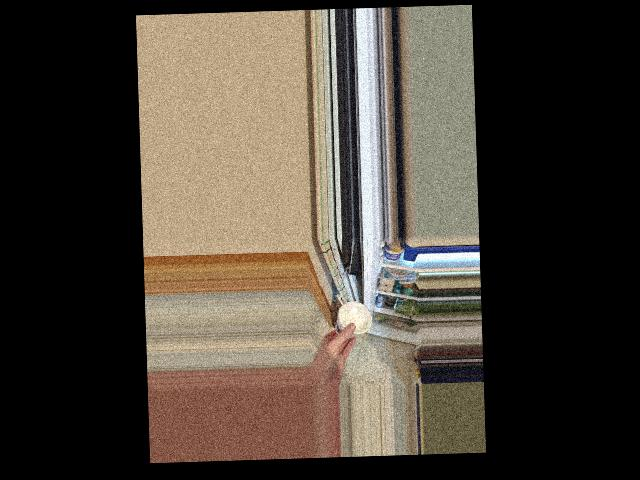cotage: (329, 299, 373, 342)
